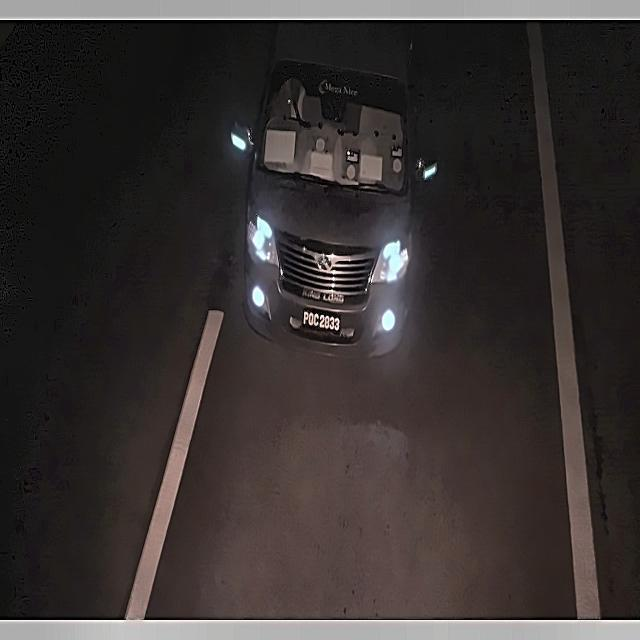car: (298, 300, 350, 339)
